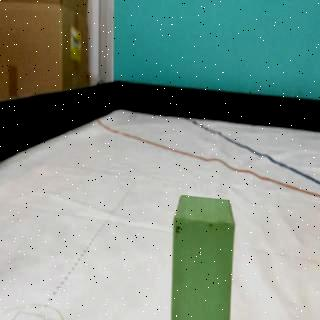greenbox: (170, 194, 237, 320)
